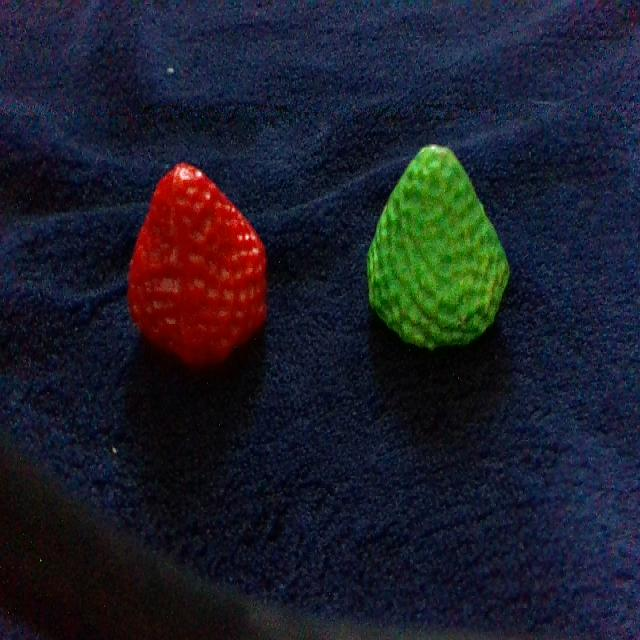chica_roja: (128, 164, 266, 364)
verde: (368, 145, 509, 349)
